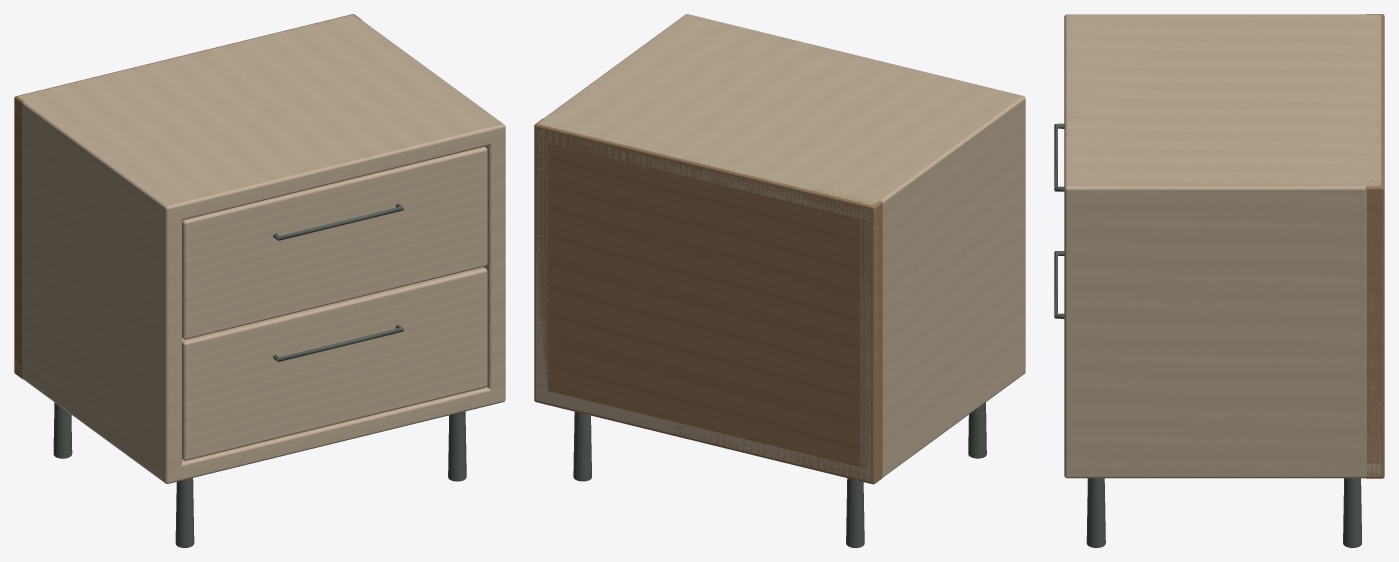
3 renders of one model, left to right at view 1: azimuth 30°, elevation 25°; view 2: azimuth 150°, elevation 25°; view 3: azimuth 270°, elevation 25°, orthographic. The views are drawn at different scales.
Parts seen in each view (by area): view 1: top, side_-1, front_0_0, front_1_0, bottom, side_1, back, leg_-1_1, leg_1_1, leg_-1_-1, handle_0_0, handle_1_0; view 2: back, top, side_-1, bottom, side_1, leg_1_-1, leg_-1_-1, leg_-1_1; view 3: side_1, top, back, bottom, leg_1_1, leg_1_-1.
Boxes of the visible parts, box(x1,y1,x2,y2) form: top: box(15, 14, 504, 221); side_-1: box(22, 104, 181, 483); front_0_0: box(182, 267, 487, 460); front_1_0: box(182, 146, 487, 339); bottom: box(15, 360, 504, 483); side_1: box(484, 125, 505, 403); back: box(14, 14, 362, 379); leg_-1_1: box(175, 478, 194, 547); leg_1_1: box(448, 411, 466, 481); leg_-1_-1: box(53, 402, 72, 458); handle_0_0: box(273, 324, 403, 361); handle_1_0: box(273, 203, 403, 240); back: box(534, 118, 882, 484); top: box(536, 14, 1025, 221); side_-1: box(860, 97, 1025, 481); bottom: box(536, 360, 1025, 481); side_1: box(536, 128, 547, 400); leg_1_-1: box(573, 412, 591, 481); leg_-1_-1: box(846, 478, 864, 547); leg_-1_1: box(968, 402, 986, 458); side_1: box(1064, 180, 1381, 477); top: box(1064, 14, 1381, 203); back: box(1366, 14, 1384, 478); bottom: box(1064, 463, 1381, 478); leg_1_1: box(1086, 478, 1105, 547); leg_1_-1: box(1343, 478, 1362, 547).
Size of the model in its own units: 0.5 by 0.5 by 0.4.
3 materials, 2 textured.
